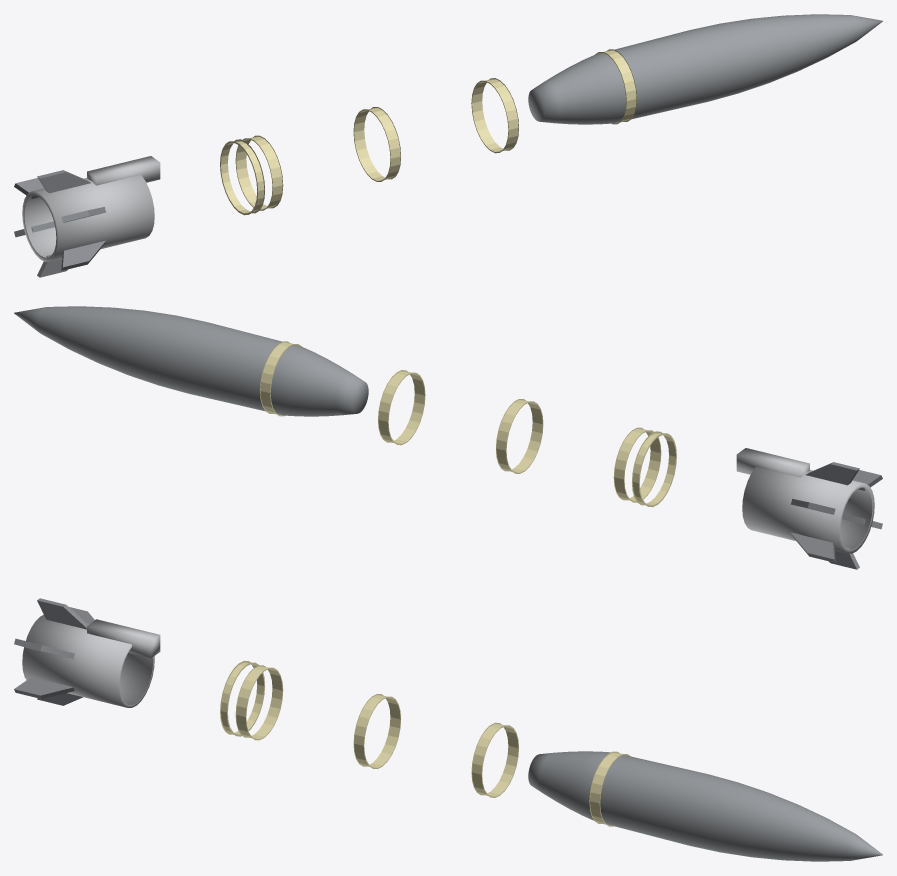
File: UK_TORP_Spearfish_LOD1.fbx
The picture shows the model from 3 angles, top to bottom: view 1: azimuth 30°, elevation 25°; view 2: azimuth 150°, elevation 25°; view 3: azimuth 330°, elevation 25°; orthographic projection.
Parts seen in each view (by area): view 1: WPN_UK_TORP_Spearfish_LOD1_Body, WPN_UK_TORP_Spearfish_LOD1_Propulsor, WPN_UK_TORP_Spearfish_LOD1_Marking, WPN_UK_TORP_Spearfish_LOD1_Fins, WPN_UK_TORP_Spearfish_LOD1_Detail; view 2: WPN_UK_TORP_Spearfish_LOD1_Body, WPN_UK_TORP_Spearfish_LOD1_Propulsor, WPN_UK_TORP_Spearfish_LOD1_Marking, WPN_UK_TORP_Spearfish_LOD1_Fins, WPN_UK_TORP_Spearfish_LOD1_Detail; view 3: WPN_UK_TORP_Spearfish_LOD1_Body, WPN_UK_TORP_Spearfish_LOD1_Propulsor, WPN_UK_TORP_Spearfish_LOD1_Marking, WPN_UK_TORP_Spearfish_LOD1_Fins, WPN_UK_TORP_Spearfish_LOD1_Detail.
Boxes of the visible parts, x1,y1,x2,y2 form: WPN_UK_TORP_Spearfish_LOD1_Body: (528, 14, 882, 124); WPN_UK_TORP_Spearfish_LOD1_Propulsor: (22, 175, 154, 261); WPN_UK_TORP_Spearfish_LOD1_Marking: (220, 49, 636, 215); WPN_UK_TORP_Spearfish_LOD1_Fins: (14, 170, 106, 277); WPN_UK_TORP_Spearfish_LOD1_Detail: (87, 156, 160, 185); WPN_UK_TORP_Spearfish_LOD1_Body: (14, 306, 368, 416); WPN_UK_TORP_Spearfish_LOD1_Propulsor: (742, 467, 874, 553); WPN_UK_TORP_Spearfish_LOD1_Marking: (260, 341, 676, 507); WPN_UK_TORP_Spearfish_LOD1_Fins: (790, 462, 882, 569); WPN_UK_TORP_Spearfish_LOD1_Detail: (736, 448, 809, 477); WPN_UK_TORP_Spearfish_LOD1_Body: (528, 751, 882, 861); WPN_UK_TORP_Spearfish_LOD1_Propulsor: (22, 615, 154, 707); WPN_UK_TORP_Spearfish_LOD1_Marking: (220, 660, 630, 826); WPN_UK_TORP_Spearfish_LOD1_Fins: (14, 598, 94, 705); WPN_UK_TORP_Spearfish_LOD1_Detail: (87, 619, 160, 658).
Bounding box in the file's own units: 7.02 × 0.7026 × 0.7867.
